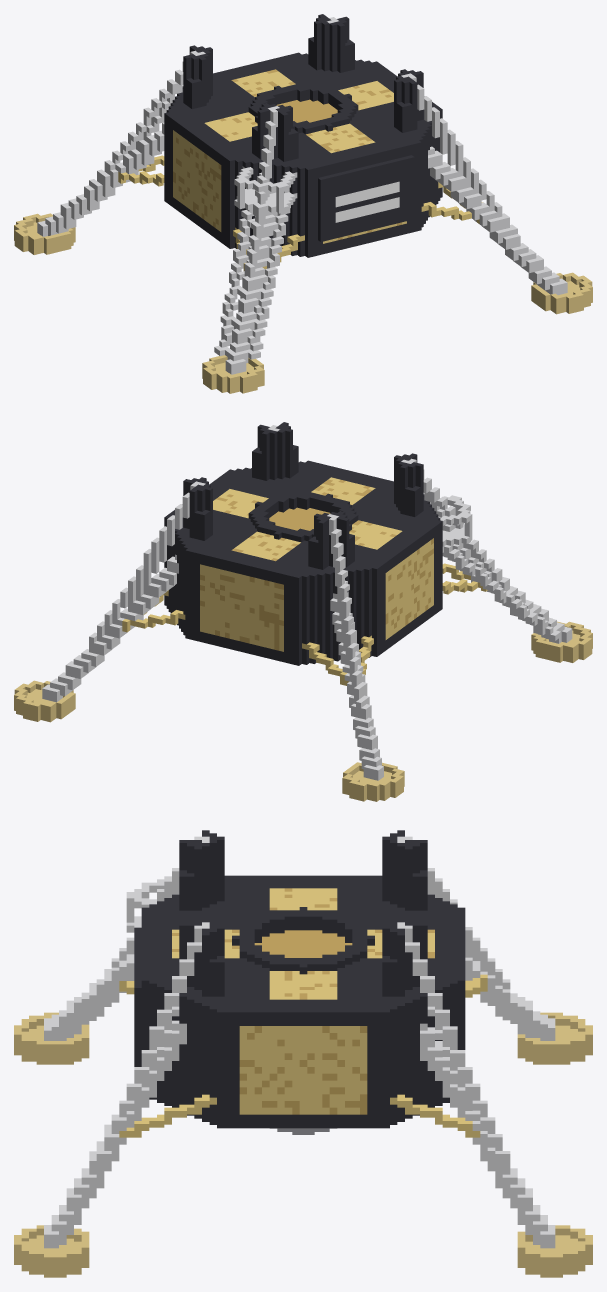
File: Apollo 15 Lunar Lander.glb
The picture shows the model from 3 angles, top to bottom: view 1: azimuth 30°, elevation 25°; view 2: azimuth 150°, elevation 25°; view 3: azimuth 270°, elevation 25°; orthographic projection. The views are drawn at different scales.
Visible parts, largest first — view 1: Apollo_LM_Descent_Voxel; view 2: Apollo_LM_Descent_Voxel; view 3: Apollo_LM_Descent_Voxel.
Part boxes in pixels (x1,y1,x2,y2): Apollo_LM_Descent_Voxel: (14,14,592,393); Apollo_LM_Descent_Voxel: (14,422,592,801); Apollo_LM_Descent_Voxel: (14,830,592,1277).
Bounding box in the file's own units: 7.7 × 4 × 7.7.
